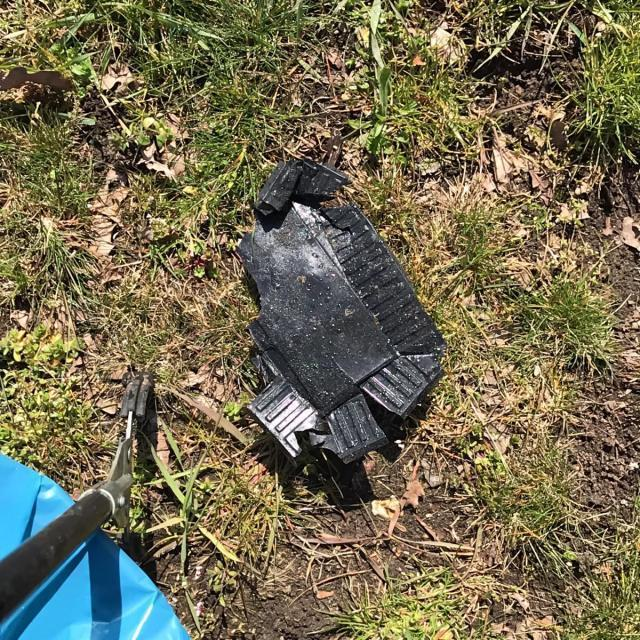Plastic: (232, 151, 451, 511)
